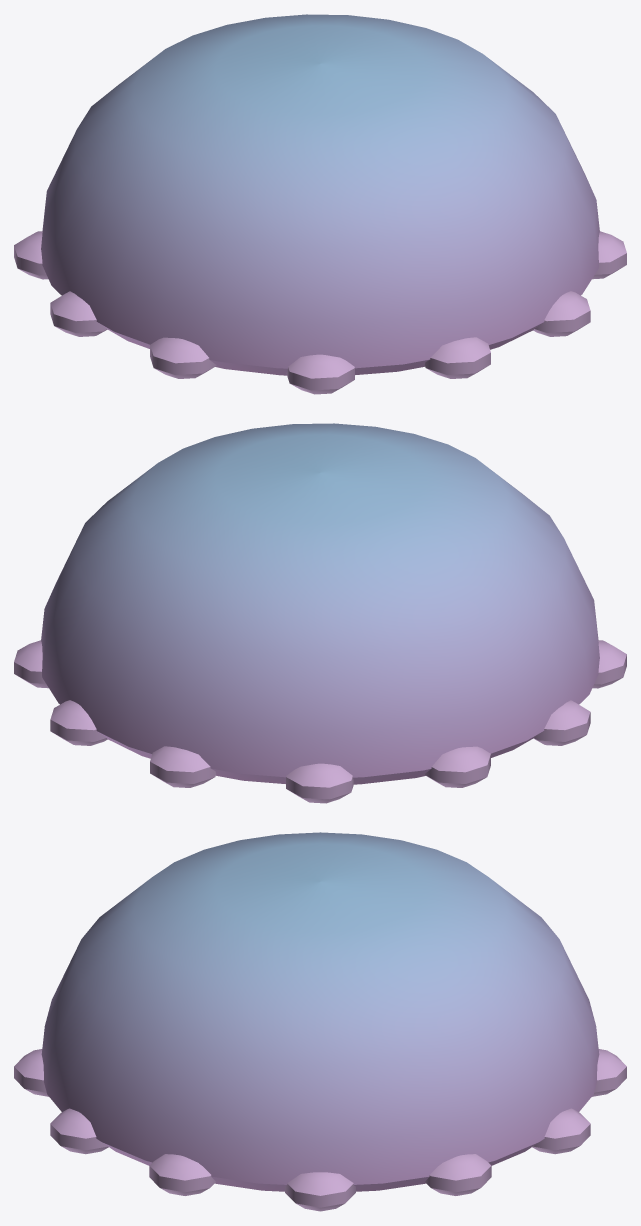
File: jelly.glb
3 renders of one model, top to bottom at view 1: azimuth 30°, elevation 25°; view 2: azimuth 150°, elevation 25°; view 3: azimuth 270°, elevation 25°, orthographic.
Parts seen in each view (by area): view 1: Sino; view 2: Sino; view 3: Sino.
Part boxes in pixels (x1=…): Sino: x1=14, y1=14, x2=626, y2=394; Sino: x1=14, y1=423, x2=626, y2=803; Sino: x1=14, y1=832, x2=626, y2=1211.
Bounding box in the file's own units: 2.62 × 0.99 × 2.62.
